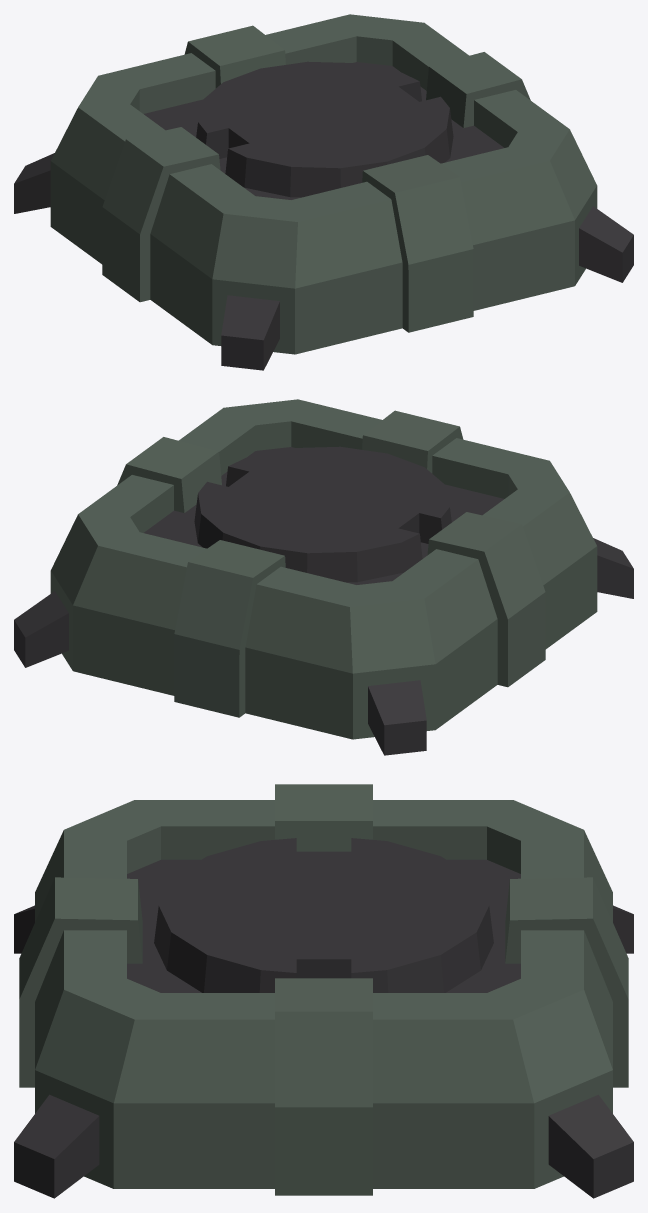
Rendered from mesh_turret_0_base.fbx.
3 renders of one model, top to bottom at view 1: azimuth 30°, elevation 25°; view 2: azimuth 150°, elevation 25°; view 3: azimuth 270°, elevation 25°, orthographic. The views are drawn at different scales.
Parts seen in each view (by area): view 1: tur_0_base; view 2: tur_0_base; view 3: tur_0_base.
Part boxes in pixels (x1,y1,x2,y2): tur_0_base: [14, 14, 633, 370]; tur_0_base: [14, 399, 633, 755]; tur_0_base: [14, 784, 633, 1198].
Size of the model in its own units: 1.18 by 0.3562 by 1.18.
